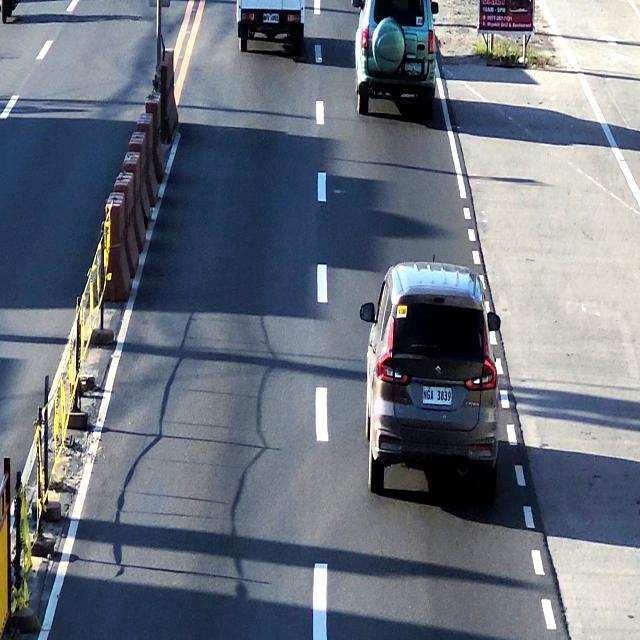Car: (366, 260, 500, 510), (354, 0, 438, 113), (233, 0, 307, 55)
License-Plate: (422, 384, 453, 412), (402, 60, 424, 80), (260, 10, 282, 26)
